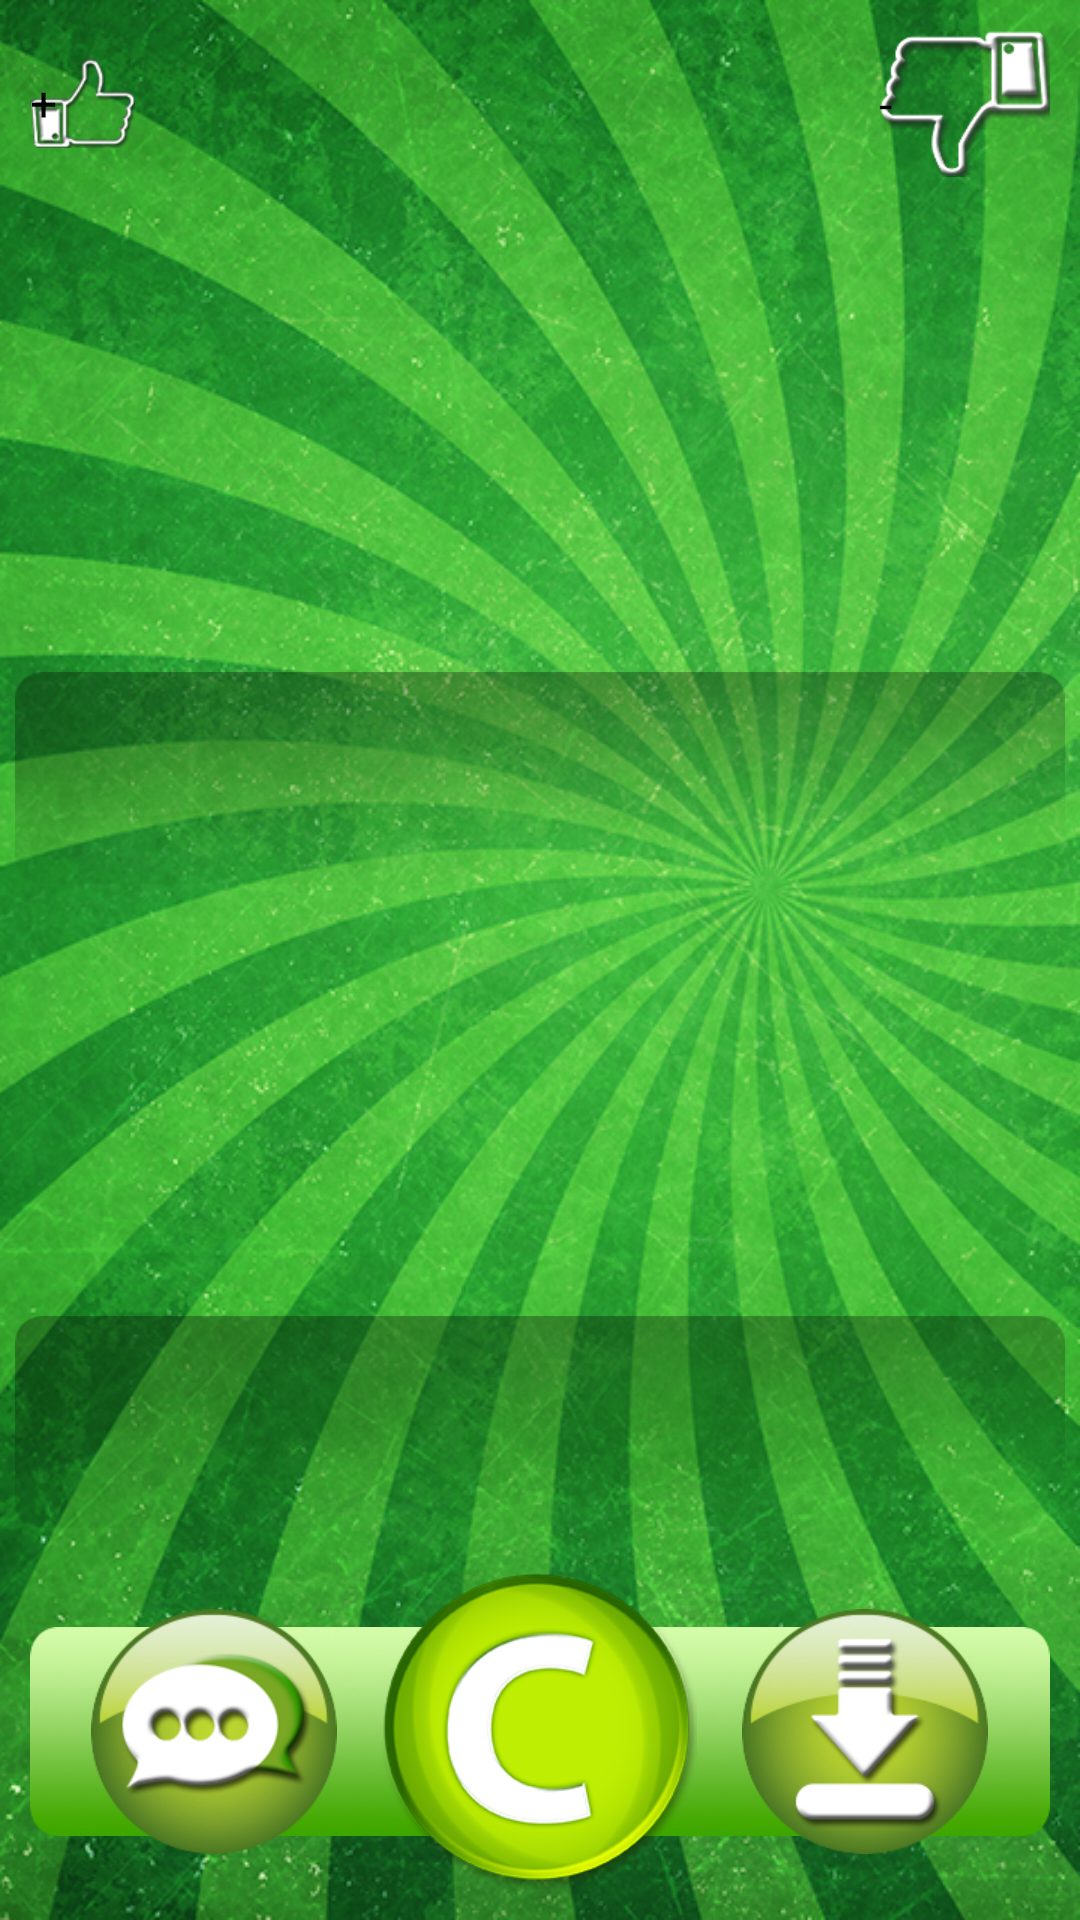

Icon click points for this 1080x1920 phone screenshot, format (x,y):
discuss: (214,1731)
download: (865,1731)
